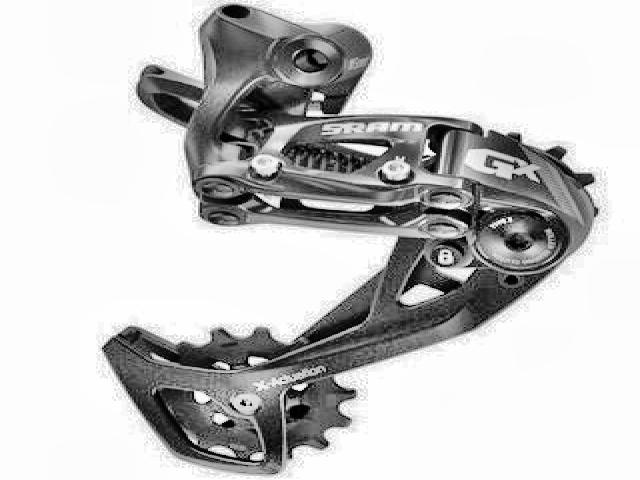rear_derailleur: (103, 2, 599, 472)
